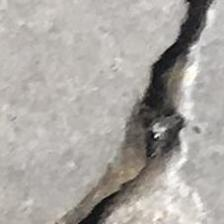Crack: (54, 0, 224, 224)
